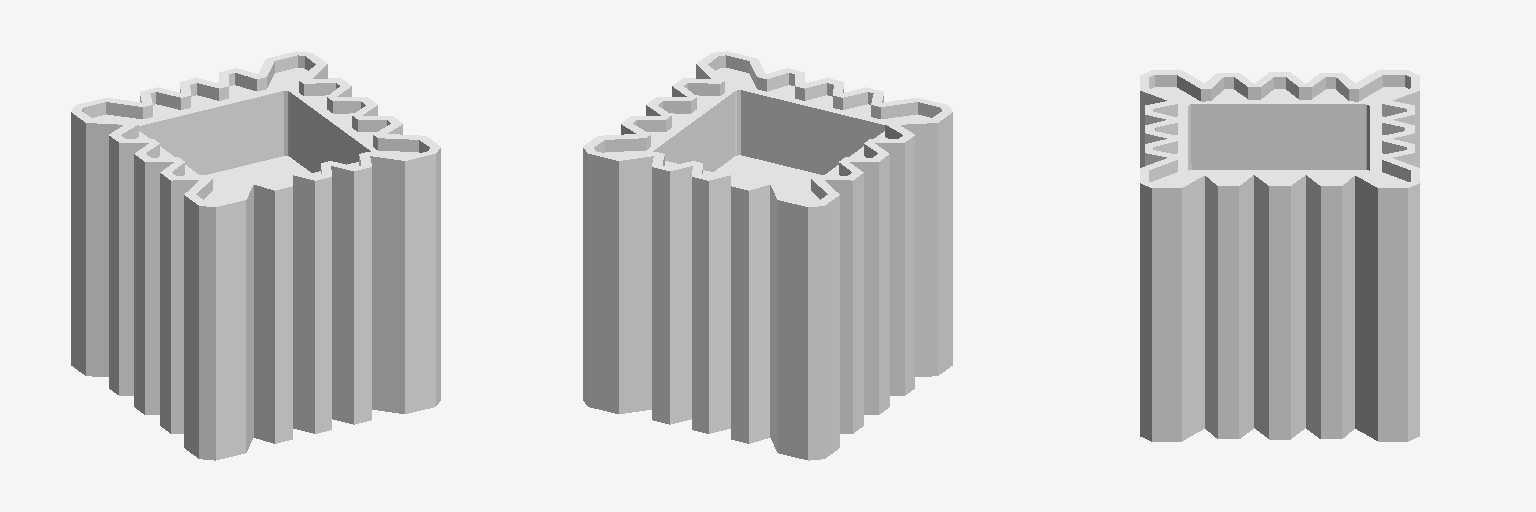
Rendered from thwomp.obj.
3 renders of one model, left to right at view 1: azimuth 30°, elevation 25°; view 2: azimuth 150°, elevation 25°; view 3: azimuth 270°, elevation 25°, orthographic.
Visible parts, largest first — view 1: Object.1, Object.2; view 2: Object.1, Object.2; view 3: Object.1, Object.2.
Boxes of the visible parts, <box> form: Object.1: <box>71,51,440,460</box>; Object.2: <box>208,156,310,192</box>; Object.1: <box>583,51,952,460</box>; Object.2: <box>714,155,819,192</box>; Object.1: <box>1140,70,1419,441</box>; Object.2: <box>1188,170,1369,178</box>.
Bounding box in the file's own units: 0.9999 × 1 × 0.9999.